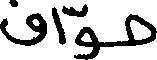X: (0, 0, 46, 50), (76, 0, 98, 59), (126, 9, 156, 50), (52, 1, 64, 49)
